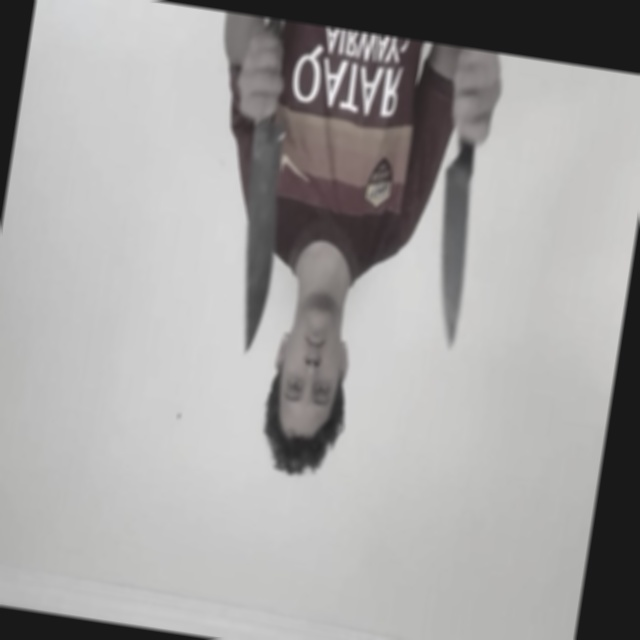Sharp-Object: (223, 122, 295, 354), (420, 166, 482, 351)
